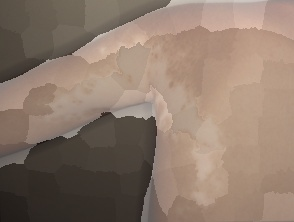vitiligo: (12, 0, 279, 222)
